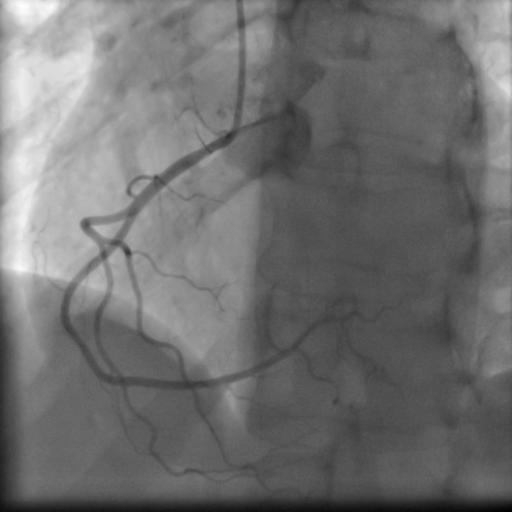Stenosis: (69, 321, 93, 369)
